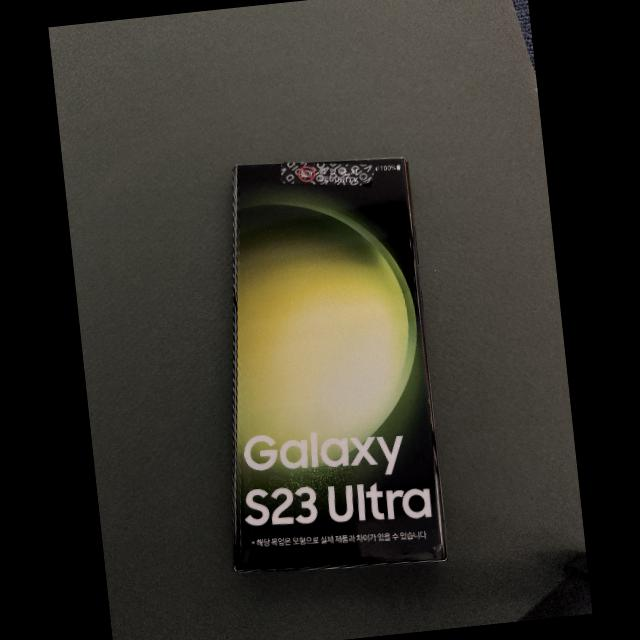phone: (232, 157, 446, 571)
sticker: (279, 159, 374, 185)
